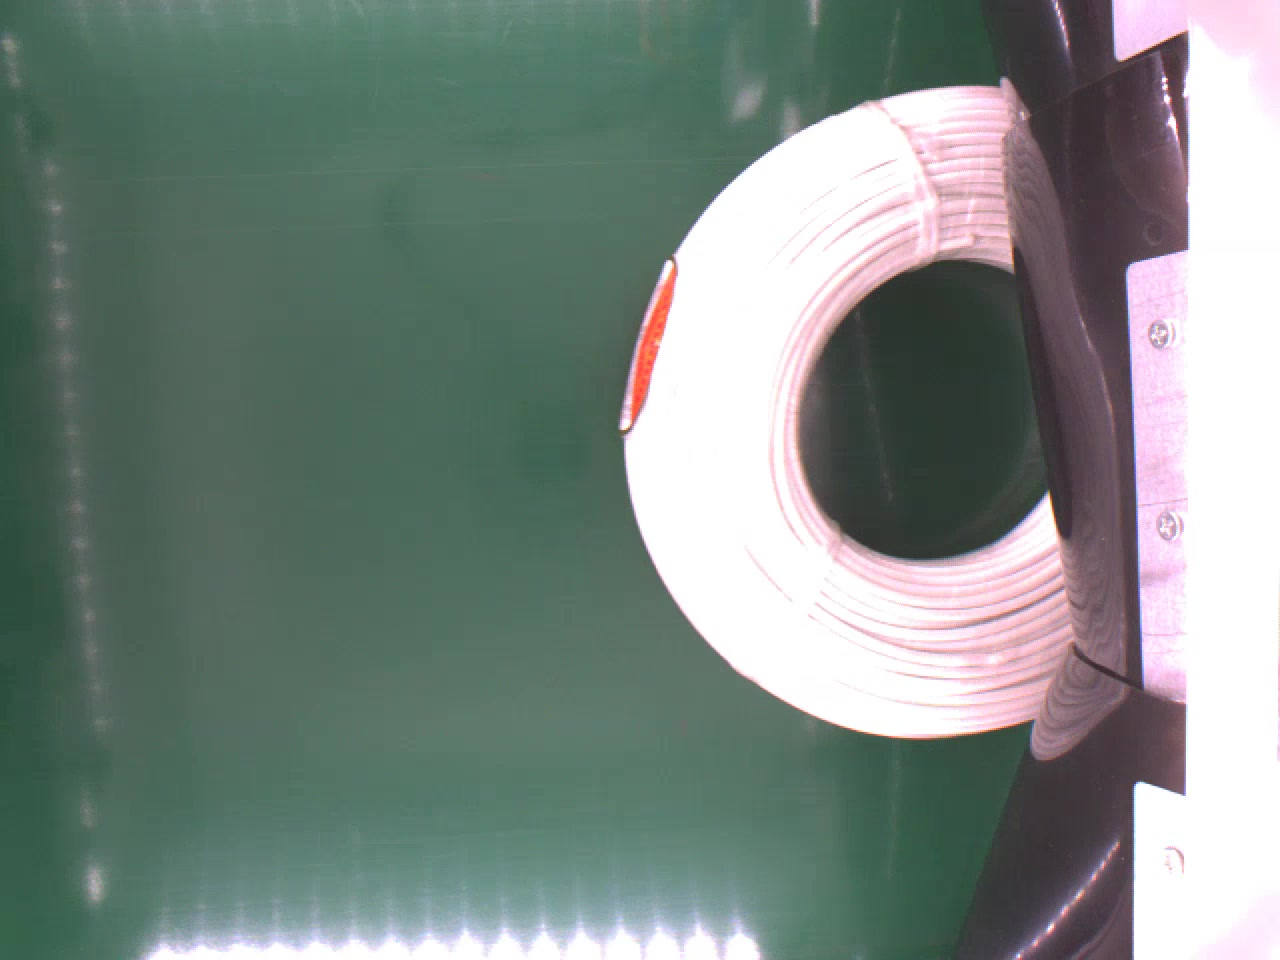white: (622, 76, 1077, 748)
